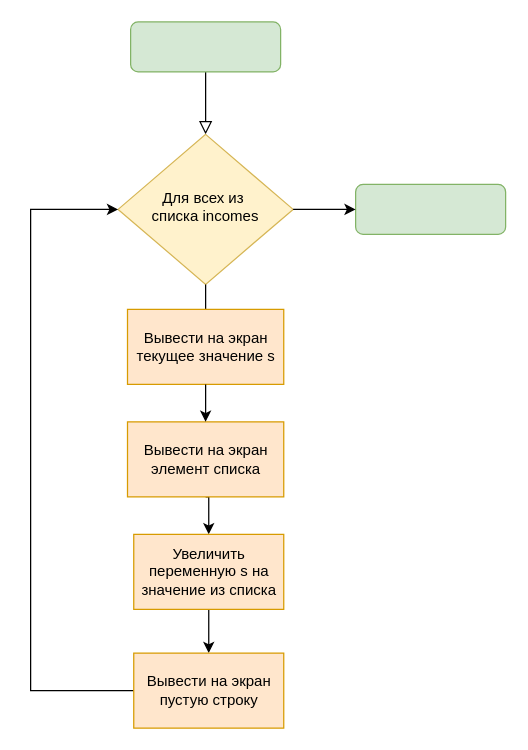
This 528x750 diagram has some shape labels left out. The centre of each missing label's shape, as x and y in pixels:
Конец цикла: the point at 430,208
Начало цикла: the point at 205,46
